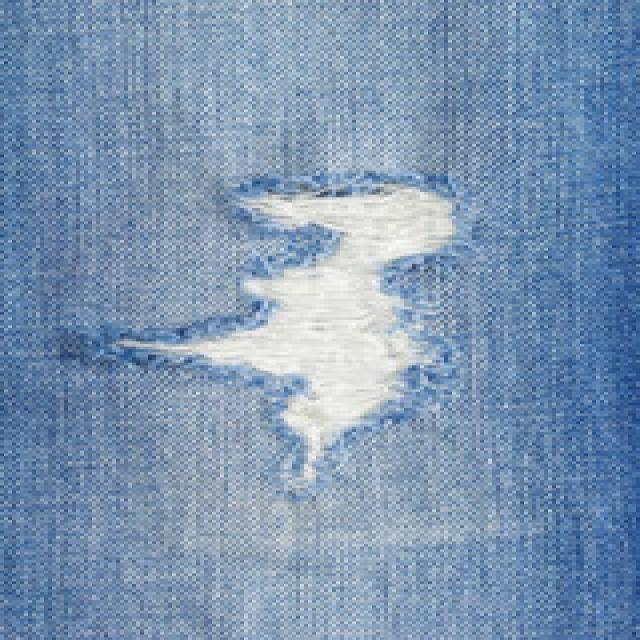Hole: (111, 175, 466, 498)
